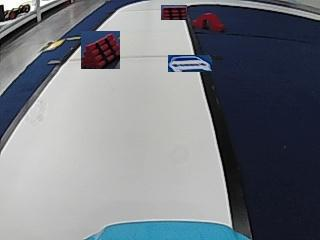bridge: (193, 12, 223, 31)
